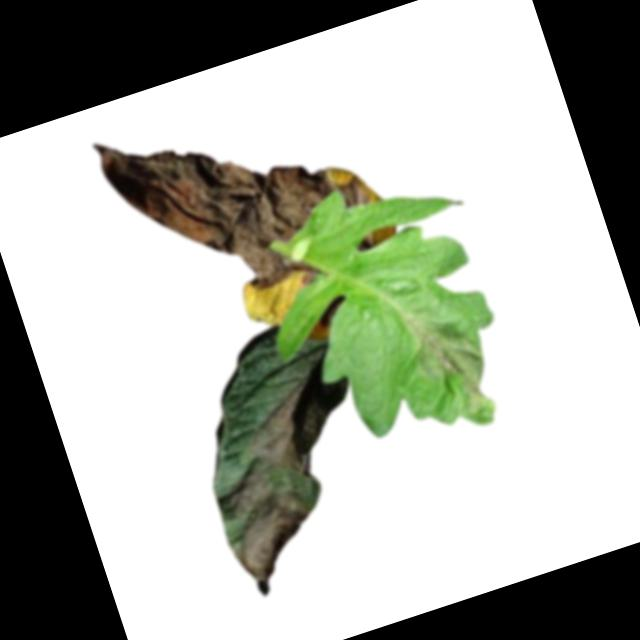Late_blight: (94, 72, 387, 332), (212, 461, 330, 604), (406, 300, 502, 426), (238, 384, 319, 480)
